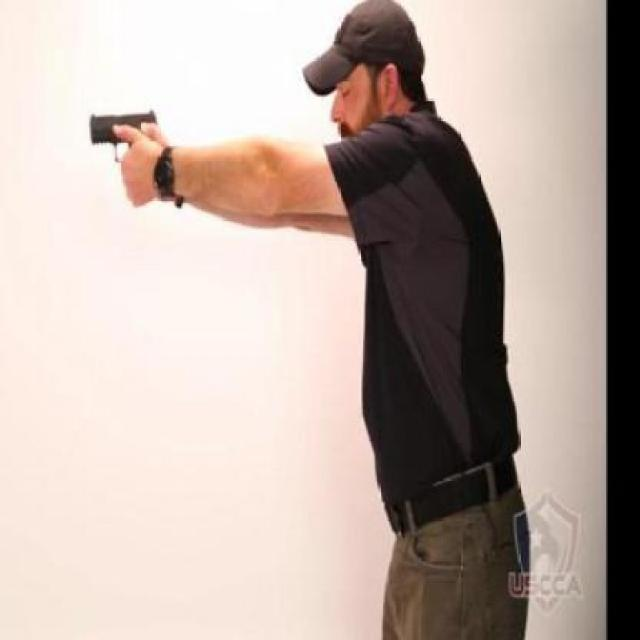gun: (85, 106, 170, 200)
